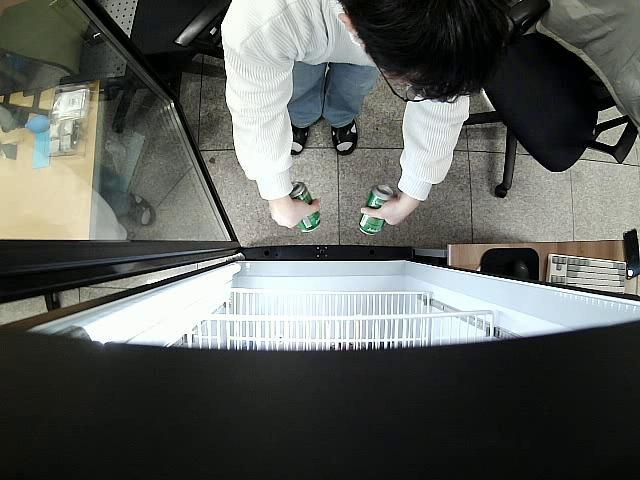12_chilsungCider: (356, 183, 394, 236), (289, 182, 322, 234)
